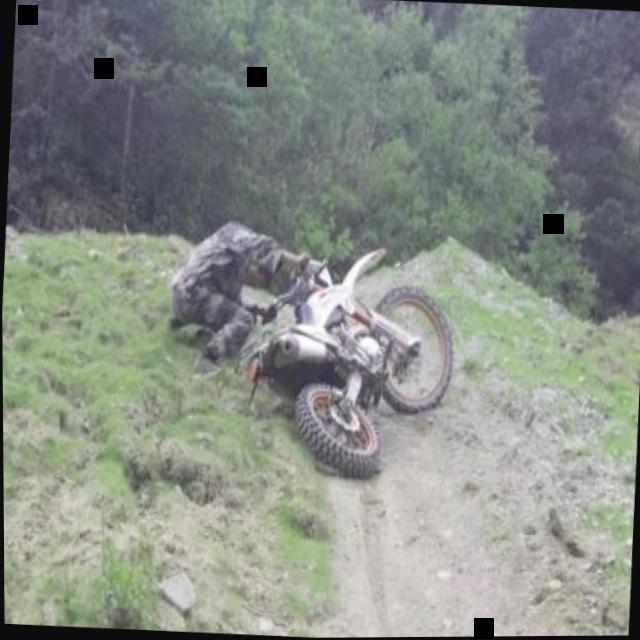Fall-Detected: (155, 206, 318, 376)
